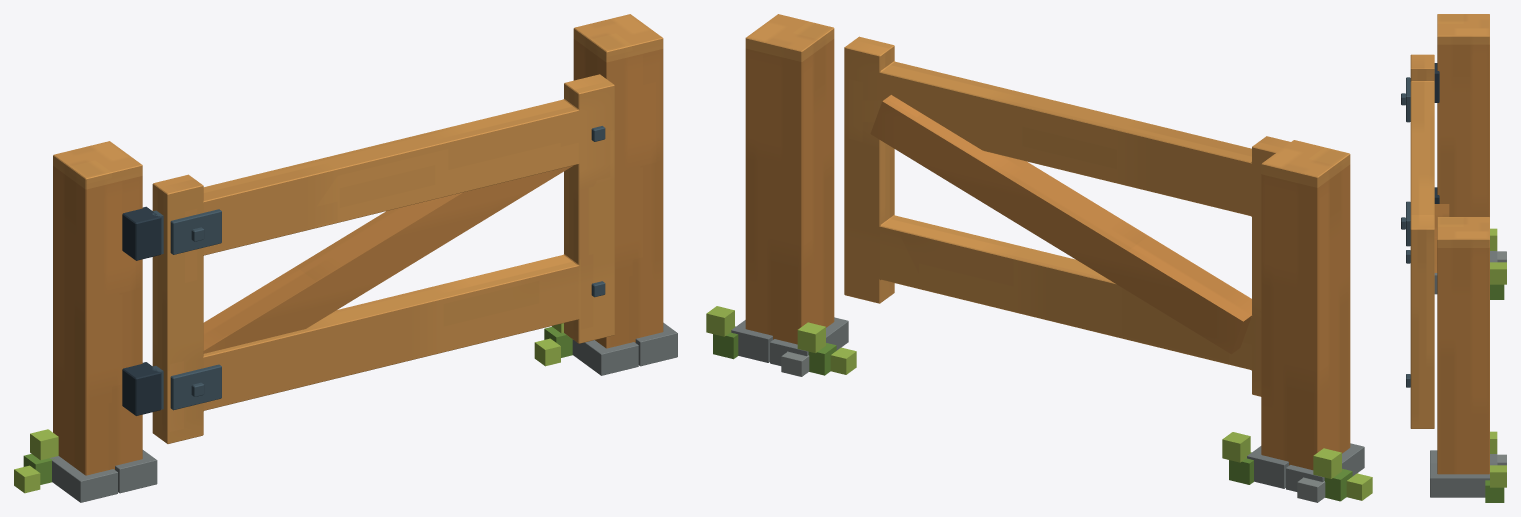
Rendered from SM_VMF_Fence_FarmGate.fbx.
3 renders of one model, left to right at view 1: azimuth 30°, elevation 25°; view 2: azimuth 150°, elevation 25°; view 3: azimuth 270°, elevation 25°, orthographic. The views are drawn at different scales.
Visible parts, largest first — view 1: SM_VMF_Fence_FarmGate_Pivot_Gate_GateFrame, SM_VMF_Fence_FarmGate_LeftPost_Post, SM_VMF_Fence_FarmGate_RightPost_Post, SM_VMF_Fence_FarmGate_Pivot_Gate_DiagonalBrace, SM_VMF_Fence_FarmGate_LeftPost_Foot_Stones, SM_VMF_Fence_FarmGate_RightPost_Foot_Stones, SM_VMF_Fence_FarmGate_LeftPost_Grass_Blocks, SM_VMF_Fence_FarmGate_FixedHinge76, SM_VMF_Fence_FarmGate_FixedHinge19, SM_VMF_Fence_FarmGate_Pivot_Gate_HingeStrap76, SM_VMF_Fence_FarmGate_Pivot_Gate_HingeStrap19, SM_VMF_Fence_FarmGate_RightPost_Grass_Blocks; view 2: SM_VMF_Fence_FarmGate_Pivot_Gate_GateFrame, SM_VMF_Fence_FarmGate_LeftPost_Post, SM_VMF_Fence_FarmGate_RightPost_Post, SM_VMF_Fence_FarmGate_Pivot_Gate_DiagonalBrace, SM_VMF_Fence_FarmGate_RightPost_Grass_Blocks, SM_VMF_Fence_FarmGate_LeftPost_Grass_Blocks, SM_VMF_Fence_FarmGate_RightPost_Foot_Stones, SM_VMF_Fence_FarmGate_LeftPost_Foot_Stones; view 3: SM_VMF_Fence_FarmGate_RightPost_Post, SM_VMF_Fence_FarmGate_LeftPost_Post, SM_VMF_Fence_FarmGate_Pivot_Gate_GateFrame, SM_VMF_Fence_FarmGate_RightPost_Foot_Stones, SM_VMF_Fence_FarmGate_RightPost_Grass_Blocks, SM_VMF_Fence_FarmGate_LeftPost_Grass_Blocks, SM_VMF_Fence_FarmGate_Pivot_Gate_DiagonalBrace, SM_VMF_Fence_FarmGate_LeftPost_Foot_Stones, SM_VMF_Fence_FarmGate_Pivot_Gate_HingeStrap19, SM_VMF_Fence_FarmGate_Pivot_Gate_HingeStrap76, SM_VMF_Fence_FarmGate_FixedHinge76.
Part boxes in pixels (x1,y1,x2,y2): SM_VMF_Fence_FarmGate_Pivot_Gate_GateFrame: [152, 74, 614, 443]; SM_VMF_Fence_FarmGate_LeftPost_Post: [53, 141, 142, 475]; SM_VMF_Fence_FarmGate_RightPost_Post: [573, 14, 663, 348]; SM_VMF_Fence_FarmGate_Pivot_Gate_DiagonalBrace: [203, 165, 573, 353]; SM_VMF_Fence_FarmGate_LeftPost_Foot_Stones: [50, 450, 157, 502]; SM_VMF_Fence_FarmGate_RightPost_Foot_Stones: [572, 322, 677, 375]; SM_VMF_Fence_FarmGate_LeftPost_Grass_Blocks: [14, 429, 58, 493]; SM_VMF_Fence_FarmGate_FixedHinge76: [122, 206, 161, 260]; SM_VMF_Fence_FarmGate_FixedHinge19: [122, 362, 161, 415]; SM_VMF_Fence_FarmGate_Pivot_Gate_HingeStrap76: [170, 209, 221, 254]; SM_VMF_Fence_FarmGate_Pivot_Gate_HingeStrap19: [170, 364, 221, 410]; SM_VMF_Fence_FarmGate_RightPost_Grass_Blocks: [534, 323, 572, 366]; SM_VMF_Fence_FarmGate_Pivot_Gate_GateFrame: [844, 36, 1290, 396]; SM_VMF_Fence_FarmGate_LeftPost_Post: [1261, 140, 1350, 470]; SM_VMF_Fence_FarmGate_RightPost_Post: [745, 14, 834, 344]; SM_VMF_Fence_FarmGate_Pivot_Gate_DiagonalBrace: [870, 95, 1252, 354]; SM_VMF_Fence_FarmGate_RightPost_Grass_Blocks: [706, 306, 856, 375]; SM_VMF_Fence_FarmGate_LeftPost_Grass_Blocks: [1222, 432, 1372, 501]; SM_VMF_Fence_FarmGate_RightPost_Foot_Stones: [731, 317, 848, 376]; SM_VMF_Fence_FarmGate_LeftPost_Foot_Stones: [1247, 443, 1364, 502]; SM_VMF_Fence_FarmGate_RightPost_Post: [1437, 217, 1489, 474]; SM_VMF_Fence_FarmGate_LeftPost_Post: [1437, 14, 1489, 216]; SM_VMF_Fence_FarmGate_Pivot_Gate_GateFrame: [1410, 54, 1434, 428]; SM_VMF_Fence_FarmGate_RightPost_Foot_Stones: [1430, 450, 1506, 497]; SM_VMF_Fence_FarmGate_RightPost_Grass_Blocks: [1485, 431, 1506, 502]; SM_VMF_Fence_FarmGate_LeftPost_Grass_Blocks: [1490, 228, 1506, 299]; SM_VMF_Fence_FarmGate_Pivot_Gate_DiagonalBrace: [1434, 204, 1449, 272]; SM_VMF_Fence_FarmGate_LeftPost_Foot_Stones: [1434, 251, 1506, 294]; SM_VMF_Fence_FarmGate_Pivot_Gate_HingeStrap19: [1406, 201, 1410, 246]; SM_VMF_Fence_FarmGate_Pivot_Gate_HingeStrap76: [1406, 77, 1410, 122]; SM_VMF_Fence_FarmGate_FixedHinge76: [1434, 63, 1439, 102].
Size of the model in its own units: 249 by 117 by 44.
Materials: 1 (1 with a texture image).
